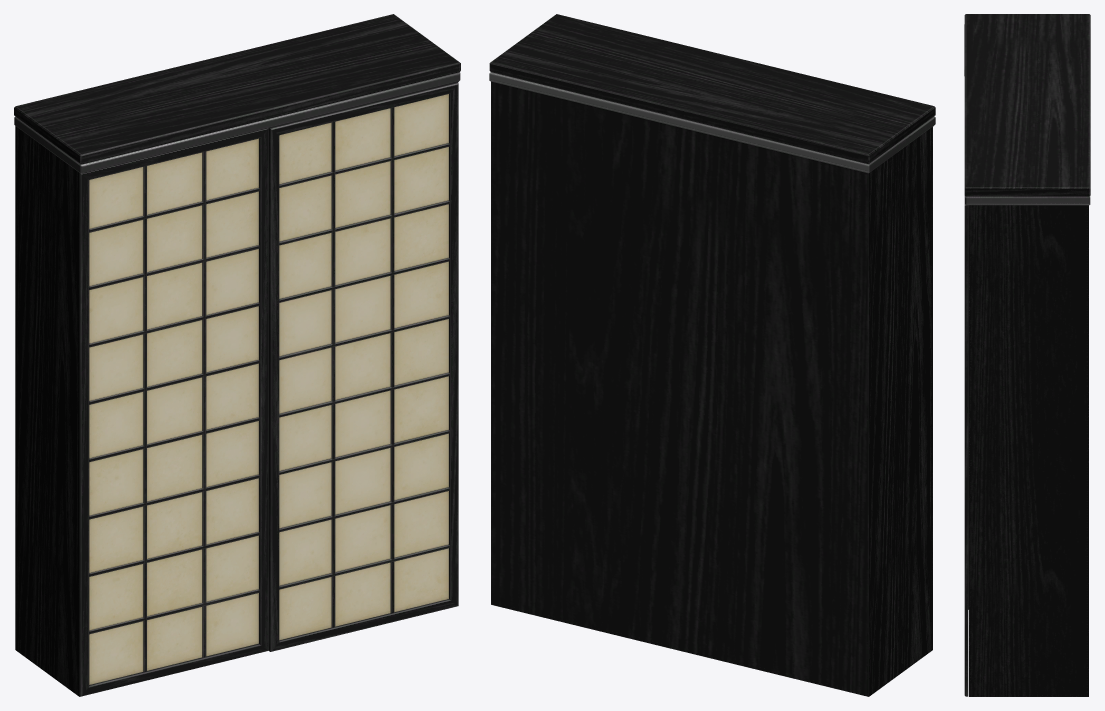
File: Wardrobe1.a.fbx
The picture shows the model from 3 angles, left to right: view 1: azimuth 30°, elevation 25°; view 2: azimuth 150°, elevation 25°; view 3: azimuth 270°, elevation 25°; orthographic projection. The views are drawn at different scales.
Parts seen in each view (by area): view 1: Group 0; view 2: Group 0; view 3: Group 0.
Boxes of the visible parts, x1=… form: Group 0: x1=14, y1=14, x2=460, y2=696; Group 0: x1=489, y1=14, x2=935, y2=696; Group 0: x1=964, y1=14, x2=1090, y2=696.
Size of the model in its own units: 201 by 279 by 61.47.
3 materials, 3 textured.
